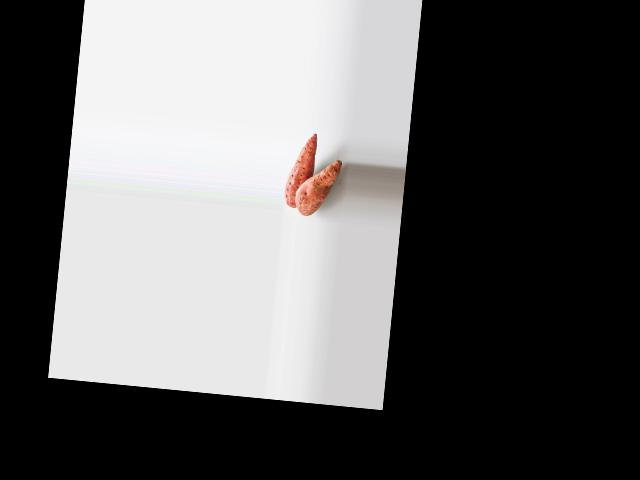sweet_potato: (284, 136, 317, 209)
